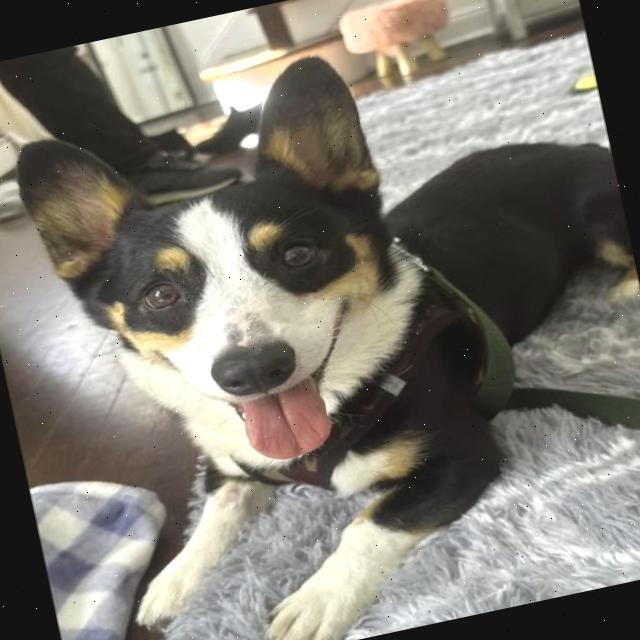corgi_dog: (0, 27, 472, 541)
